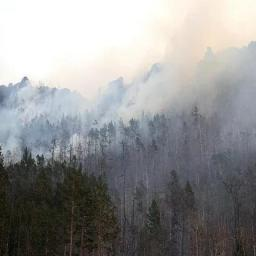Low smoke: (0, 0, 255, 218)
